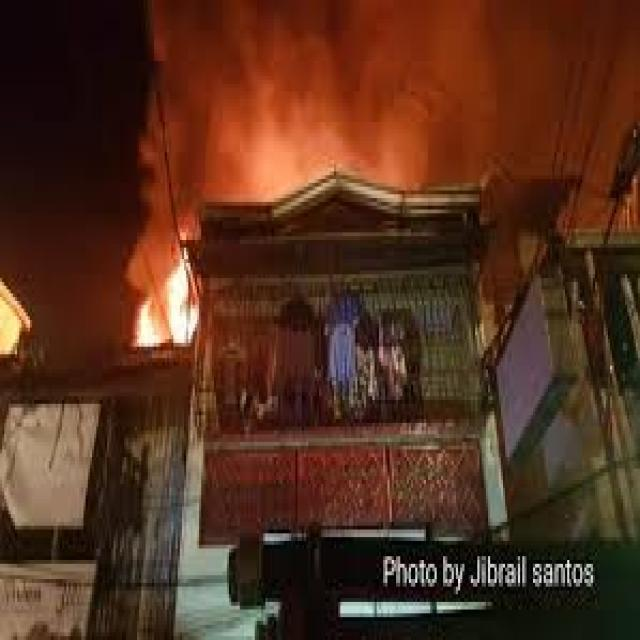Fire: (141, 265, 200, 349)
Smoke: (156, 3, 635, 176)
